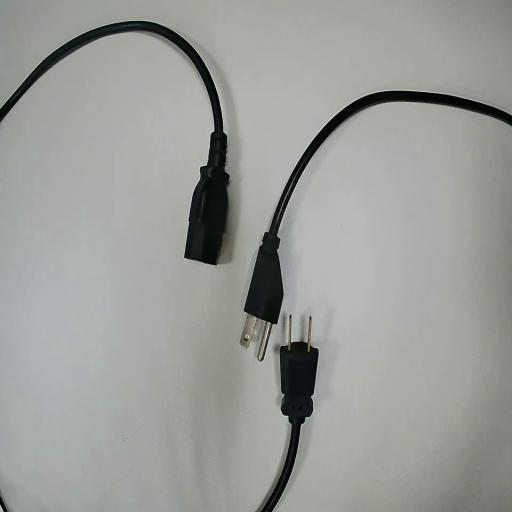wire: (245, 92, 511, 323), (0, 22, 228, 263), (261, 341, 317, 511)
